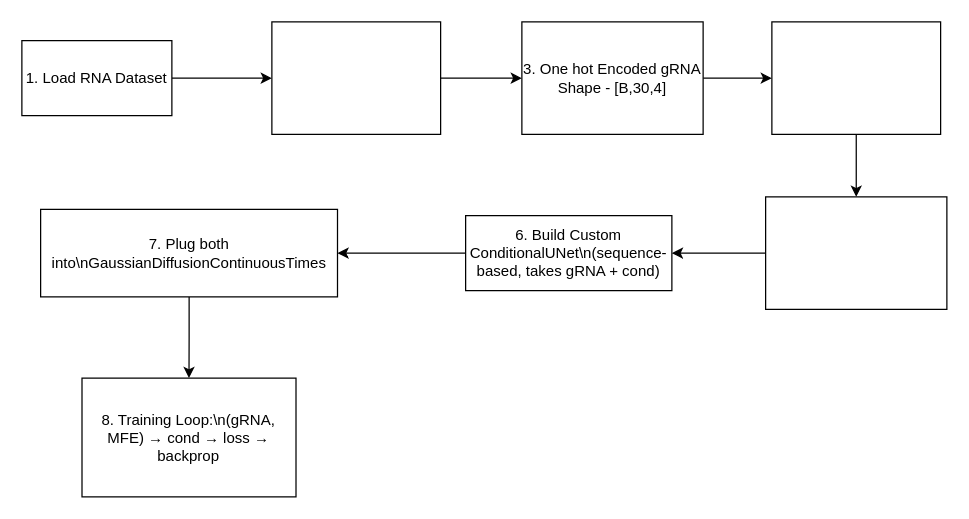
Some shapes in this 969 by 519 pixel diagram are drawn without their labels. The shapes that lost their labels are listed below. From the top down, each one's centre as x and y in pixels, then its label:
the point at 356,77: 2.Extract gRNA seqeunces (from Mutated_Compliments)
the point at 856,77: 4. Extract Delta_G_MFE - Normalize across the dataset
the point at 855,252: 5.ConditoningNet (Delta_G_MFE - vector [B,64])
